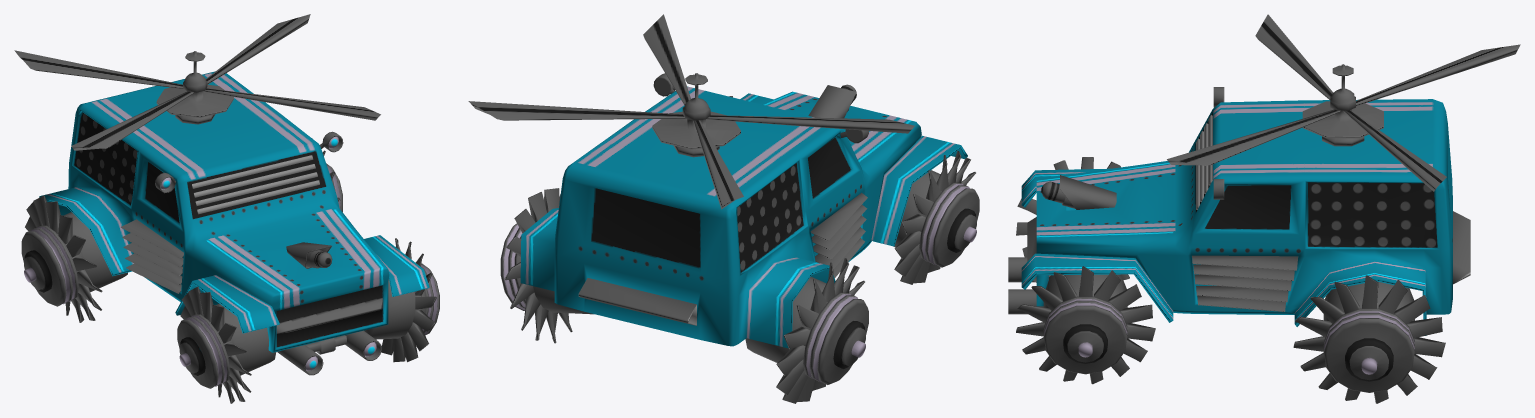
File: SM_Car_03_.fbx
The picture shows the model from 3 angles, left to right: view 1: azimuth 30°, elevation 25°; view 2: azimuth 150°, elevation 25°; view 3: azimuth 270°, elevation 25°; orthographic projection. The views are drawn at different scales.
Parts seen in each view (by area): view 1: SM_Car_03_; view 2: SM_Car_03_; view 3: SM_Car_03_.
Boxes of the visible parts, bbox=[...] form: SM_Car_03_: bbox=[14, 14, 439, 403]; SM_Car_03_: bbox=[468, 14, 979, 403]; SM_Car_03_: bbox=[1008, 14, 1520, 403].
Bounding box in the file's own units: 471 × 591 × 354.
Materials: 1 (1 with a texture image).
